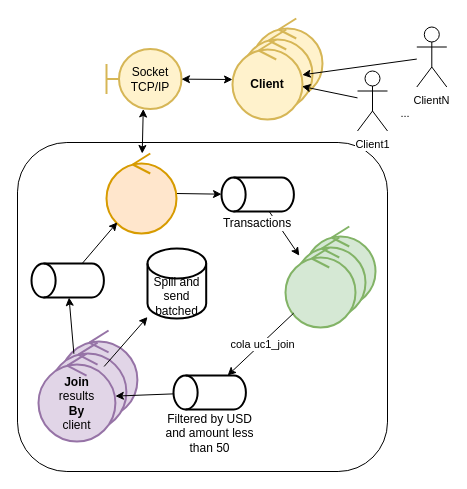
The diagram is 467 pixels wide and 489 high, and some of its shapes have lost their labels. Each missing label, with the box of its shape:
Filter: (284, 246, 356, 328)
Gateway: (105, 152, 177, 234)
Responses: (30, 262, 104, 298)
